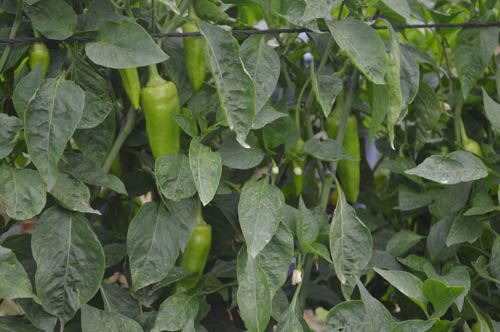ChiliPepper: (140, 84, 182, 165), (324, 116, 360, 199), (181, 23, 208, 89), (180, 225, 208, 287), (30, 50, 46, 73)
